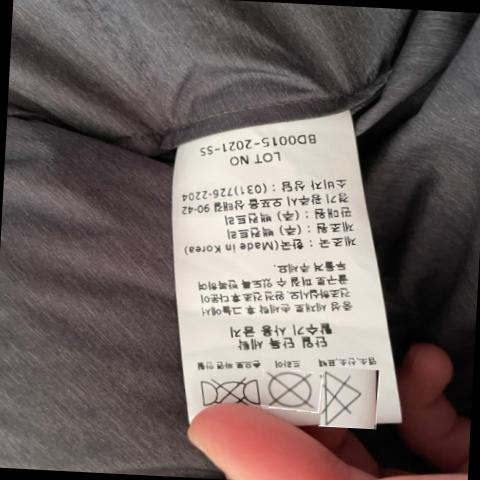DN_bleach: (320, 370, 373, 426)
DN_dry_clean: (267, 369, 315, 410)
DN_wring: (197, 370, 261, 409)
